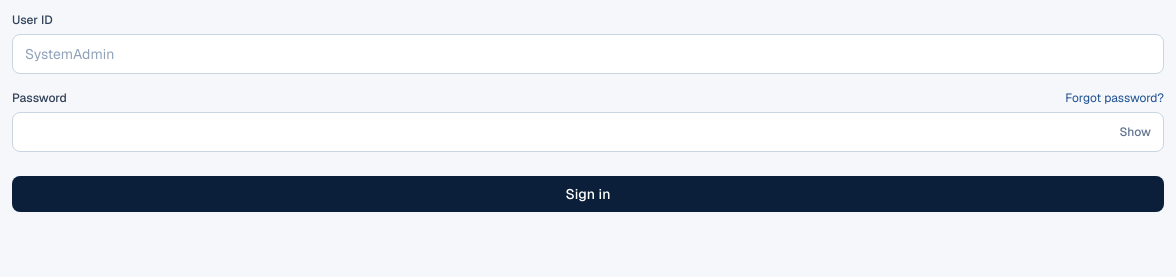
LoginForm › clears the error when the user types
The image size is (1176, 277).
Click the button "Sign in" at (588, 194), box 12,176 -> 1164,212
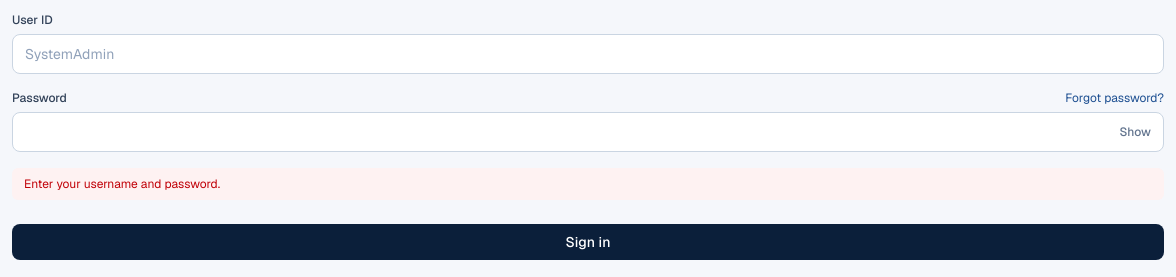
Type "admin@company.com" into the field labelled "User ID" at (588, 54), box 13,35 -> 1163,73
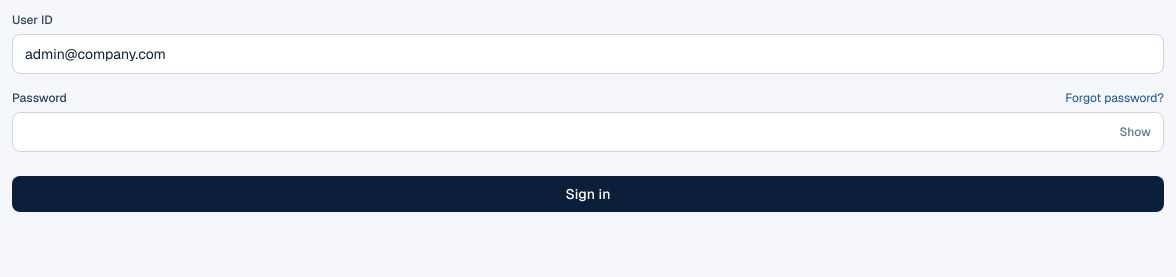
Now the message "Enter your username and password." is gone
